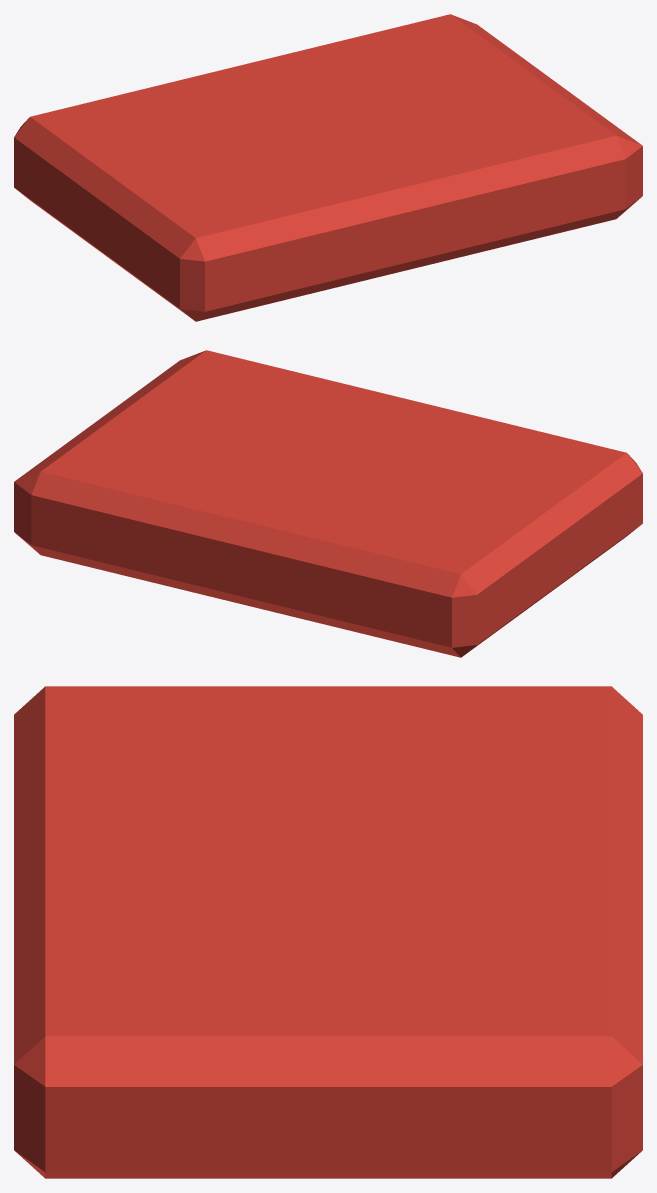
File: book_single.glb
3 views of the same model, one above another, from view 1: azimuth 30°, elevation 25°; view 2: azimuth 150°, elevation 25°; view 3: azimuth 270°, elevation 25° (orthographic). The views are drawn at different scales.
Parts seen in each view (by area): view 1: book_single; view 2: book_single; view 3: book_single.
Boxes of the visible parts, x1,y1,x2,y2 form: book_single: (14,14,642,321); book_single: (14,350,642,657); book_single: (14,686,642,1178).
Bounding box in the file's own units: 0.174 × 0.03 × 0.12.
